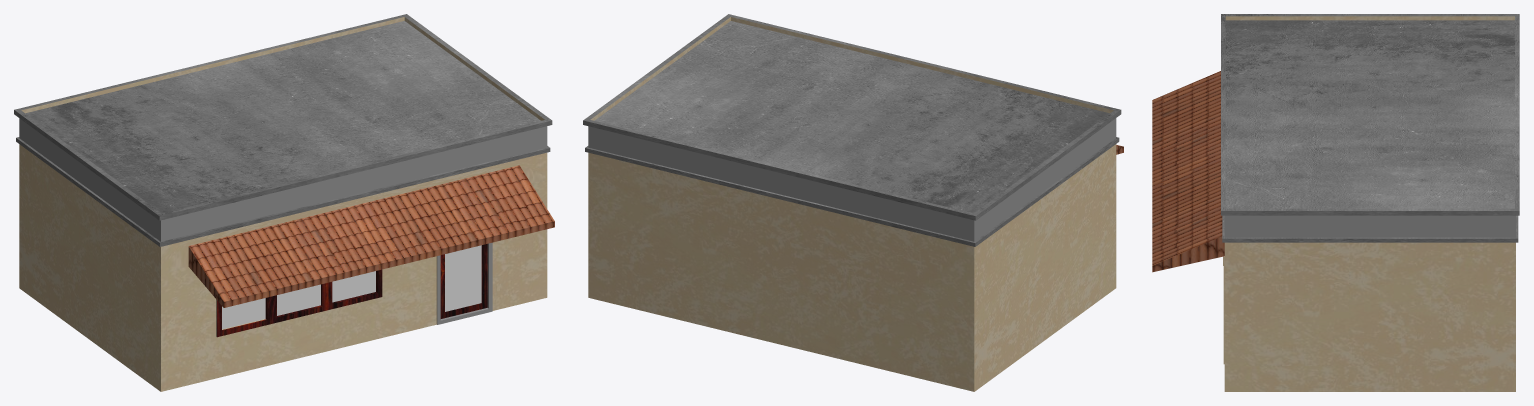
File: CAFE_02.fbx
3 renders of one model, left to right at view 1: azimuth 30°, elevation 25°; view 2: azimuth 150°, elevation 25°; view 3: azimuth 270°, elevation 25°, orthographic. The views are drawn at different scales.
Visible parts, largest first — view 1: CAFE_02; view 2: CAFE_02; view 3: CAFE_02.
Part boxes in pixels (left/top/right/bottom): CAFE_02: left=14, top=14, right=554, bottom=391; CAFE_02: left=583, top=14, right=1123, bottom=391; CAFE_02: left=1152, top=14, right=1519, bottom=391.
Size of the model in its own units: 919 by 398 by 725.
